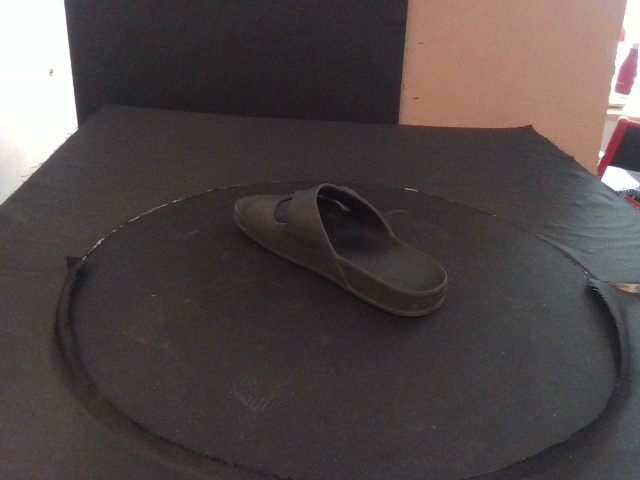shoe: (232, 181, 448, 319)
